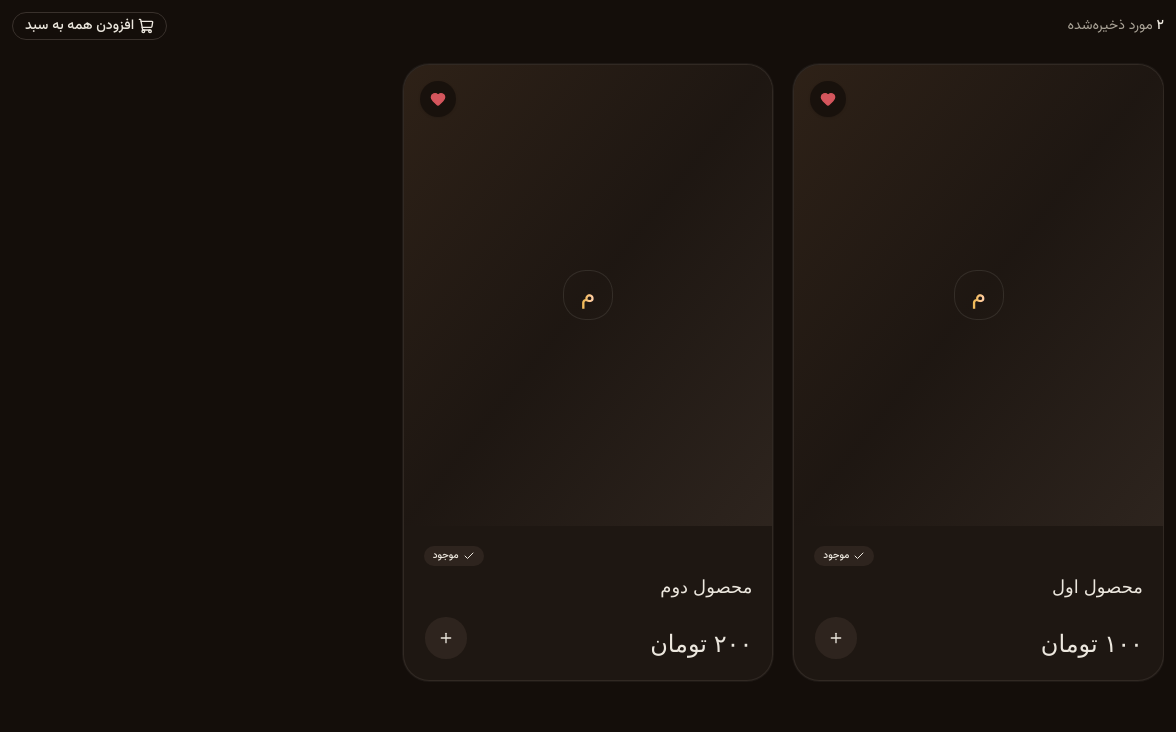
Test: WishlistView add-to-cart errors › surfaces OUT_OF_STOCK from a rejected add instead of a generic failure
What coordinates should you click on to do the following:
click the button named "افزودن محصول اول به سبد خرید"
I would click on:
 (836, 638)
Its box is 814,616 -> 858,660.
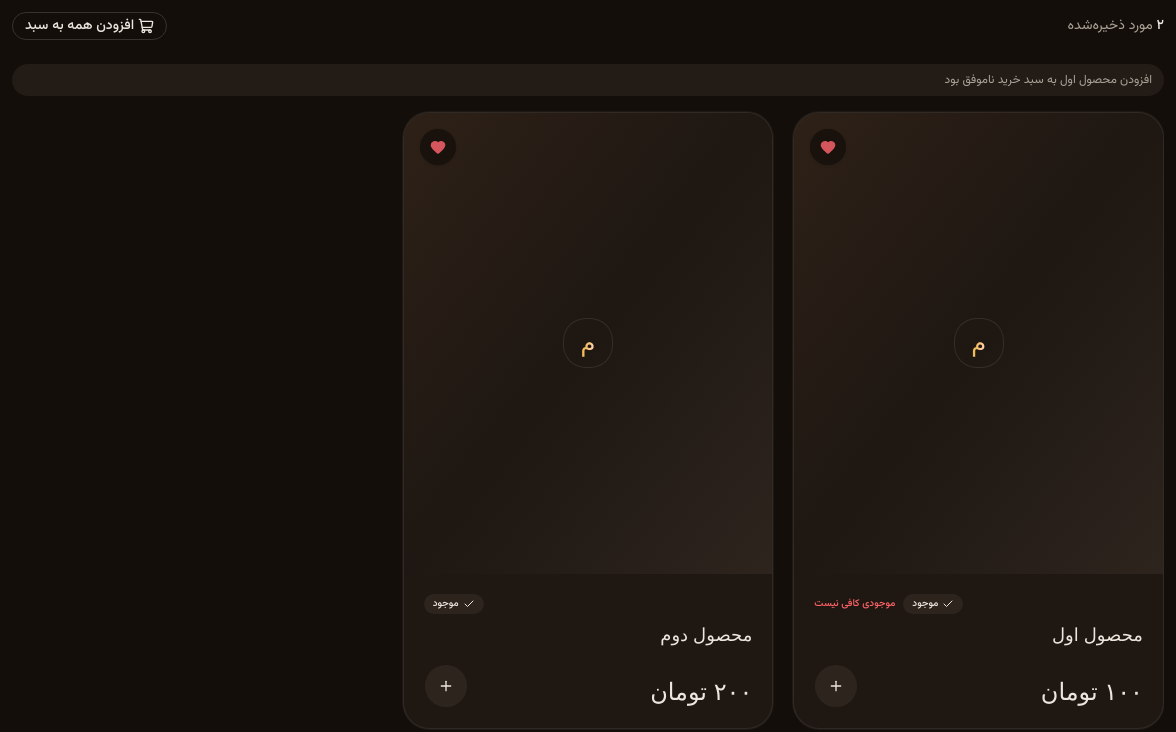
Expected: the text "موجودی کافی نیست" is shown, 814,595 -> 895,613
